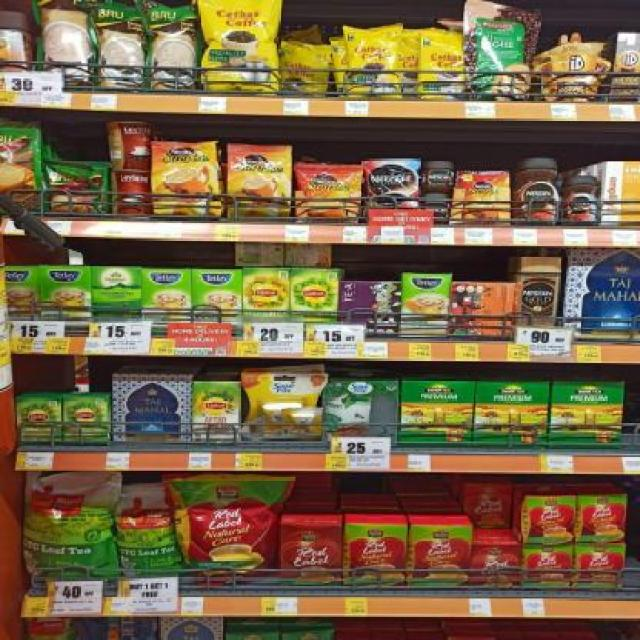Coffee: (150, 140, 218, 217), (227, 146, 290, 220), (517, 256, 560, 342), (296, 164, 359, 220), (368, 160, 420, 222), (515, 157, 562, 225), (567, 176, 601, 224), (425, 160, 453, 191), (424, 195, 448, 222)
